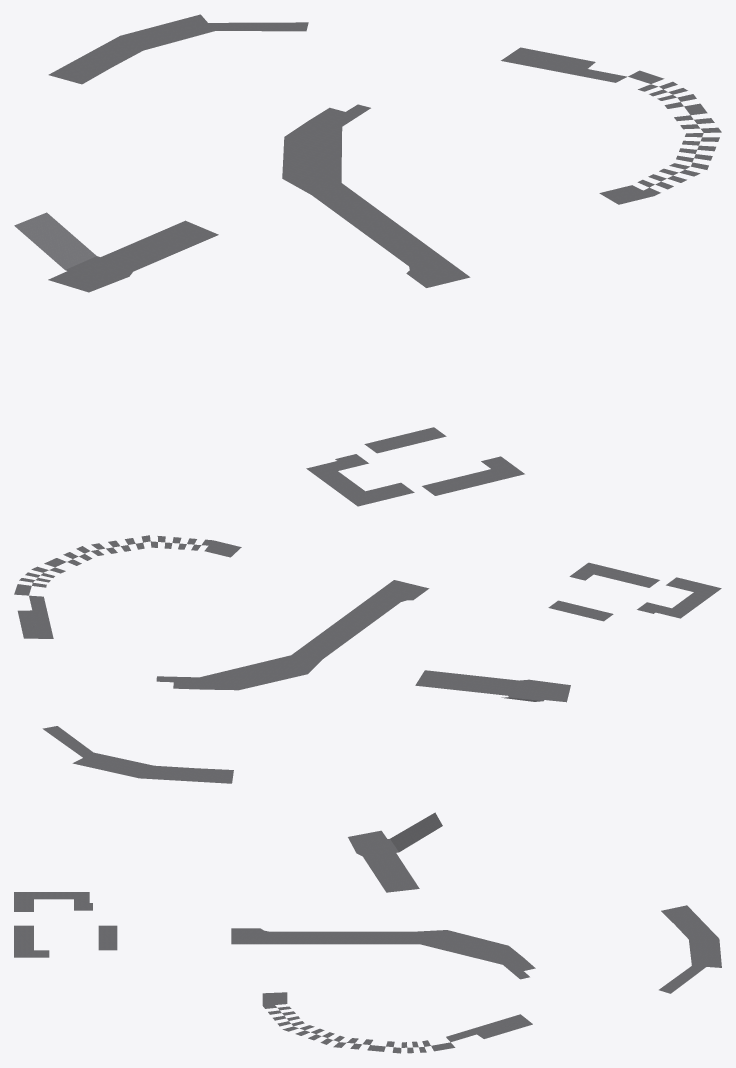
File: kd_stage_1364a3_11_32_bounded.glb
The picture shows the model from 3 angles, top to bottom: view 1: azimuth 30°, elevation 25°; view 2: azimuth 150°, elevation 25°; view 3: azimuth 270°, elevation 25°; orthographic projection. The views are drawn at different scales.
Parts seen in each view (by area): view 1: kd_stage_1364a3_11_32_bounded; view 2: kd_stage_1364a3_11_32_bounded; view 3: kd_stage_1364a3_11_32_bounded.
Boxes of the visible parts, left/top/right/bottom form: kd_stage_1364a3_11_32_bounded: left=14, top=14, right=721, bottom=506; kd_stage_1364a3_11_32_bounded: left=14, top=535, right=721, bottom=783; kd_stage_1364a3_11_32_bounded: left=14, top=812, right=721, bottom=1053.
Bounding box in the file's own units: 106 × 13.94 × 135.
1 material, 1 textured.
